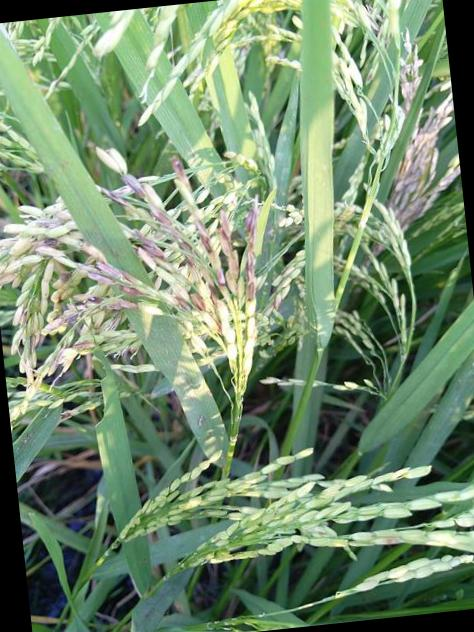Panicle Blight: (387, 87, 460, 232), (120, 174, 193, 257), (87, 261, 157, 298), (193, 209, 226, 287), (399, 29, 423, 112), (239, 209, 259, 306), (217, 210, 239, 294), (97, 186, 140, 217), (64, 294, 105, 326), (127, 229, 166, 261), (169, 155, 192, 190), (208, 285, 223, 338), (28, 334, 47, 367), (195, 220, 212, 254), (371, 537, 412, 547), (29, 218, 64, 229), (104, 300, 139, 311), (0, 266, 16, 290), (190, 294, 206, 312), (175, 297, 191, 313), (43, 238, 60, 250), (72, 342, 94, 350), (60, 271, 72, 284)
